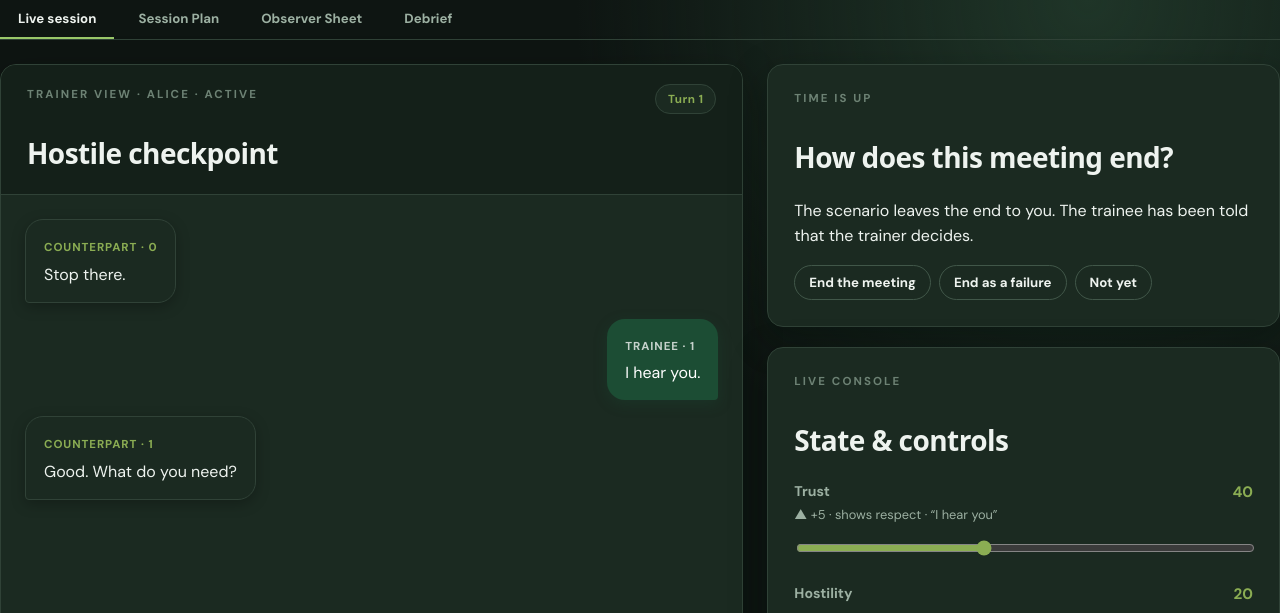
Test: Watch: live session › lets the trainer put the question off with Not yet
Click the button "Not yet" at (1113, 282), box [1075,265,1152,300]
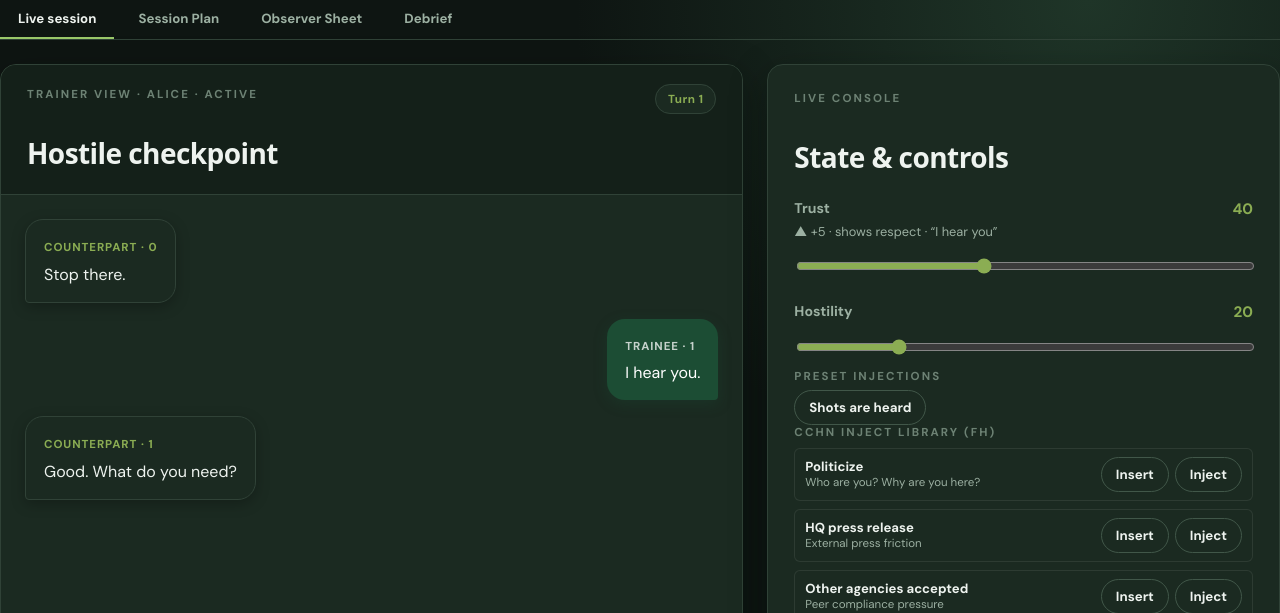
Expected: the dialog is gone
